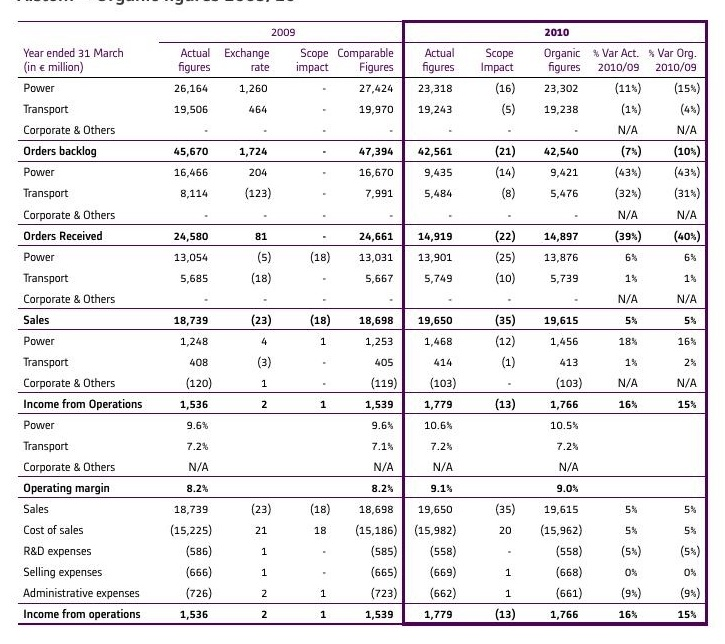table: (0, 0, 725, 644)
